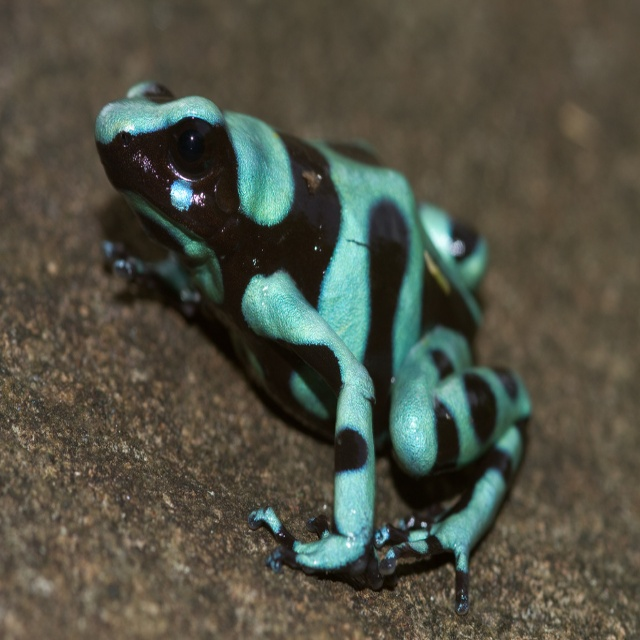Frog: (94, 83, 533, 618)
